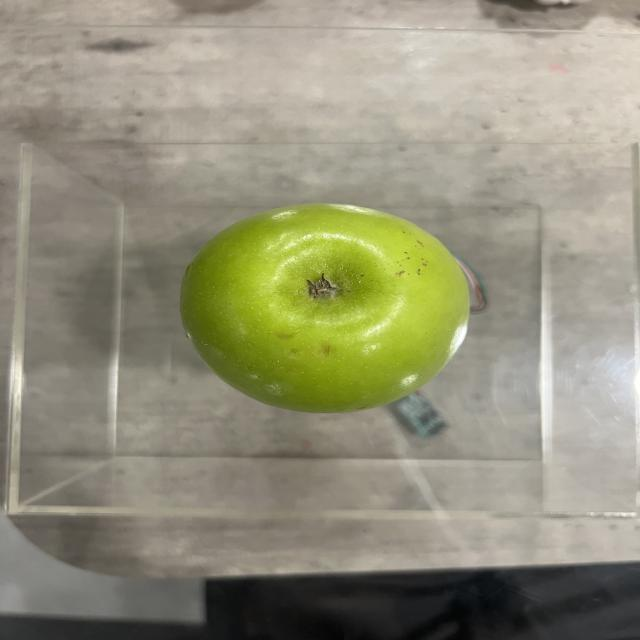green apple: (177, 200, 468, 414)
